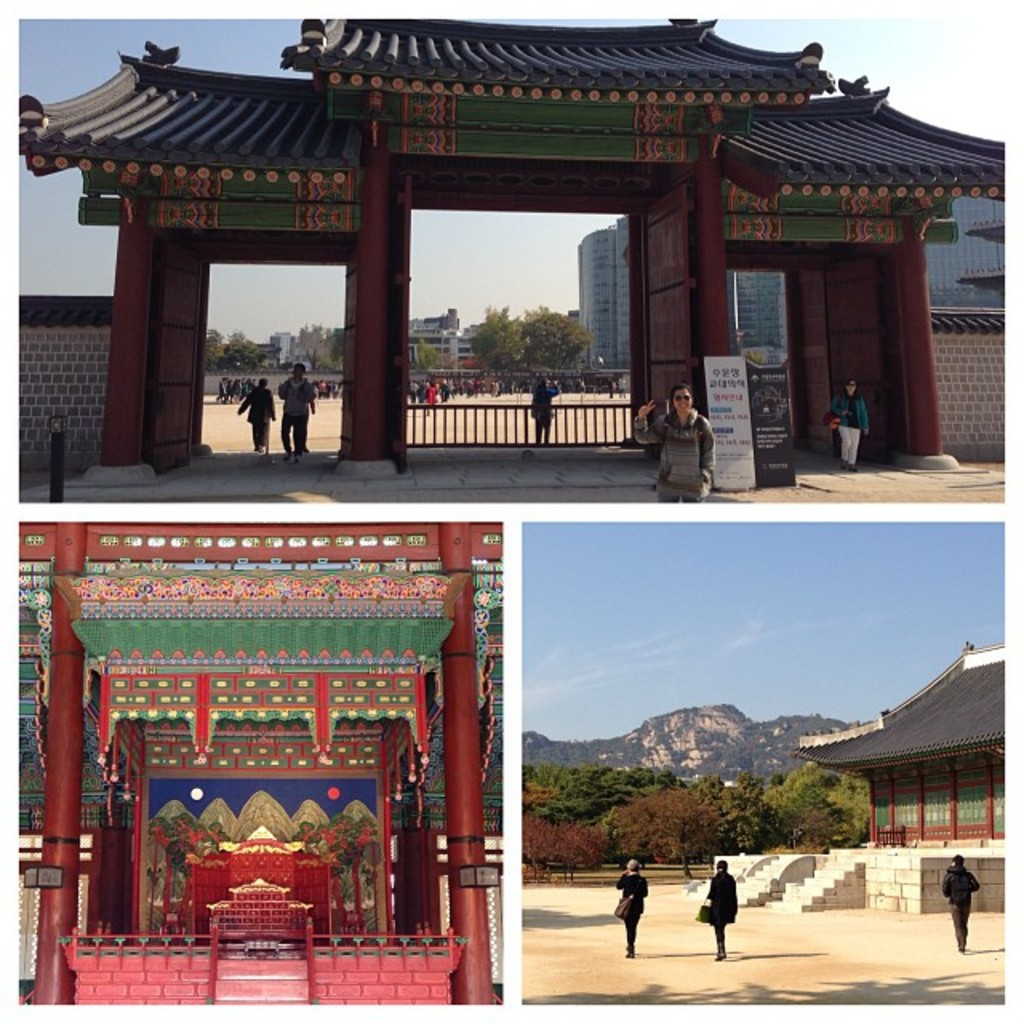person: (632, 381, 716, 502)
